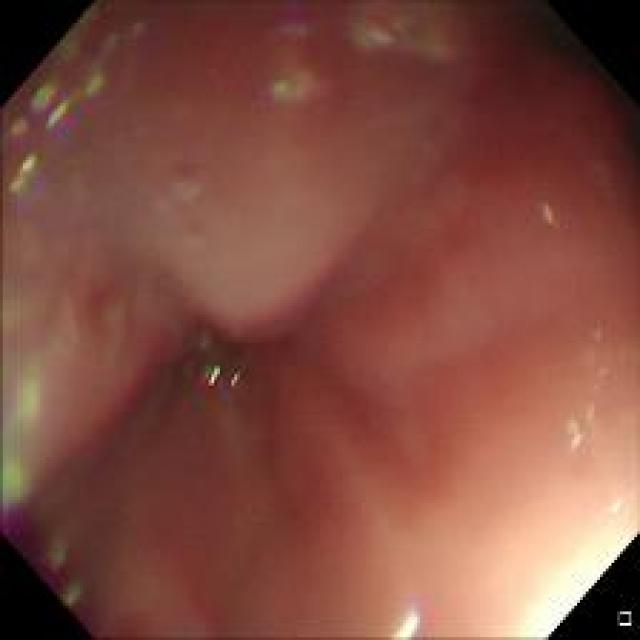blur: (29, 69, 555, 592)
color misalignment: (275, 11, 442, 92), (14, 49, 96, 200), (5, 301, 50, 515), (564, 328, 608, 446), (91, 5, 149, 88), (396, 9, 469, 68), (32, 532, 85, 609), (2, 110, 35, 204), (170, 155, 208, 212), (270, 69, 326, 104), (536, 186, 572, 231), (384, 599, 424, 635), (201, 364, 244, 390), (188, 320, 211, 356)
saturation: (552, 546, 614, 624)
specularity: (606, 492, 624, 516)
